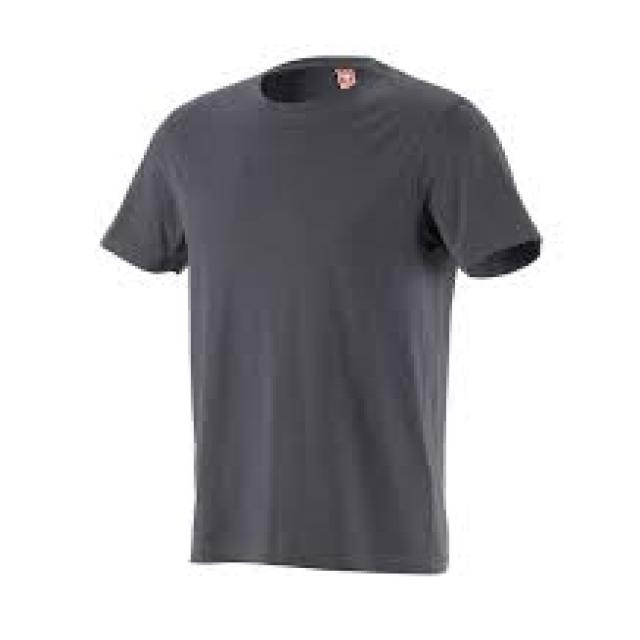shirt: (103, 59, 542, 572)
